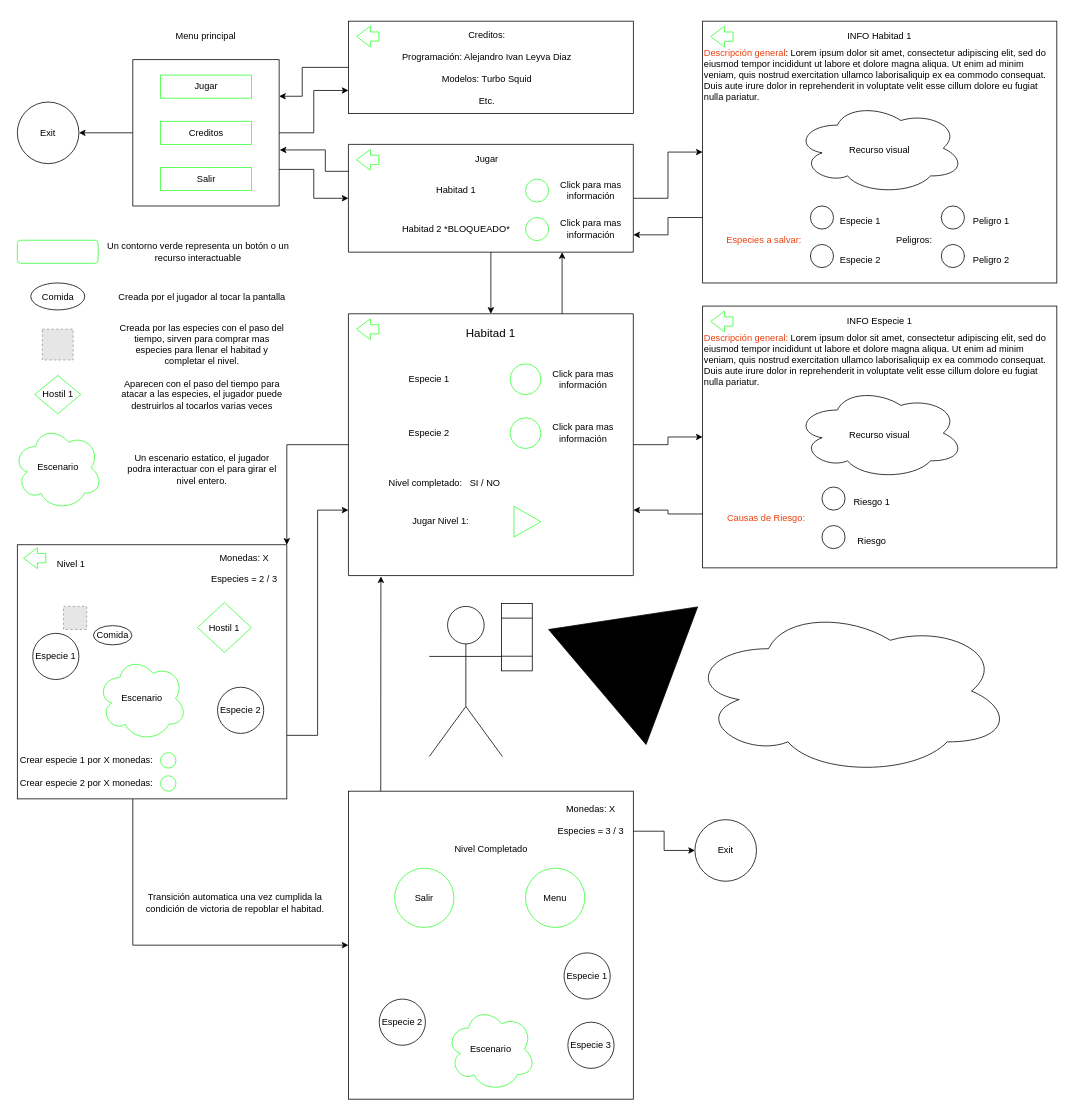
The diagram is 1071 pixels wide and 1113 high, and some of its shapes have lost their labels. Grey dashed boxes stand in for pictures. The shapes that lost their labels are listed below. From the top down, each one's centre as x and y in pixels, then its label:
point (465, 681): Actor
point (849, 691): Recursos AR Instanciados en un plano de elección del jugador
